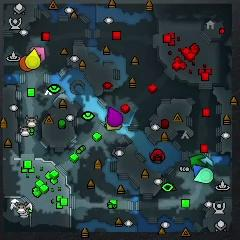p1: (192, 164, 203, 177)
p2: (193, 168, 213, 184)
p3: (107, 108, 123, 127)
p4: (25, 48, 41, 69)
p5: (20, 56, 31, 72)
x1: (30, 47, 46, 62)
x2: (106, 116, 122, 131)
x3: (201, 156, 213, 166)
x4: (189, 154, 205, 171)
